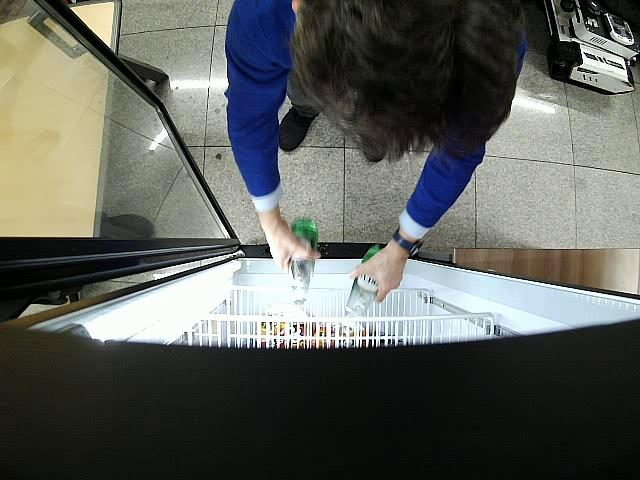00_hand: (259, 215, 321, 277), (351, 249, 407, 302)
18_trevi: (343, 247, 381, 322), (291, 218, 317, 313)
